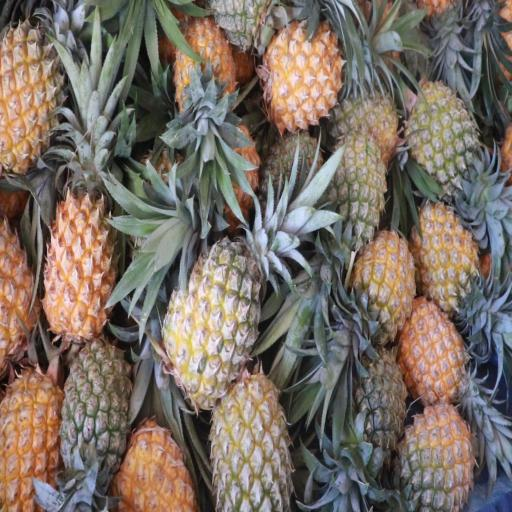------------------------------: (165, 242, 260, 402), (212, 381, 290, 512)
Pineapple - v8 v1: (44, 190, 116, 344), (0, 367, 67, 512), (0, 28, 62, 168), (264, 28, 341, 127), (119, 420, 196, 512), (414, 203, 478, 312), (401, 302, 466, 404), (354, 236, 415, 342), (0, 215, 40, 365), (174, 21, 236, 117)
